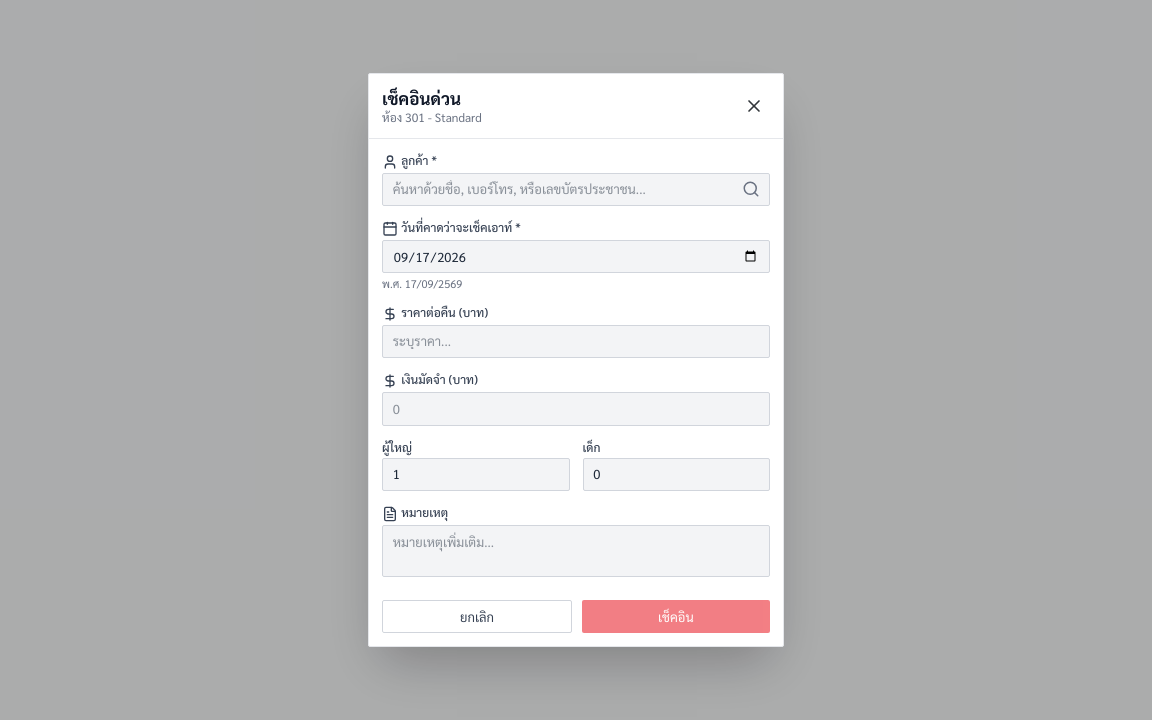
Test case: QuickCheckInModal Component › Customer Search (Debounced) › selects customer when clicking on dropdown item
Type "John" into the field with placeholder "ค้นหาด้วยชื่อ, เบอร์โทร, หรือเลขบัตรประชาชน..." at (576, 189), box x1=382 y1=173 x2=770 y2=206
Wait 300 ms
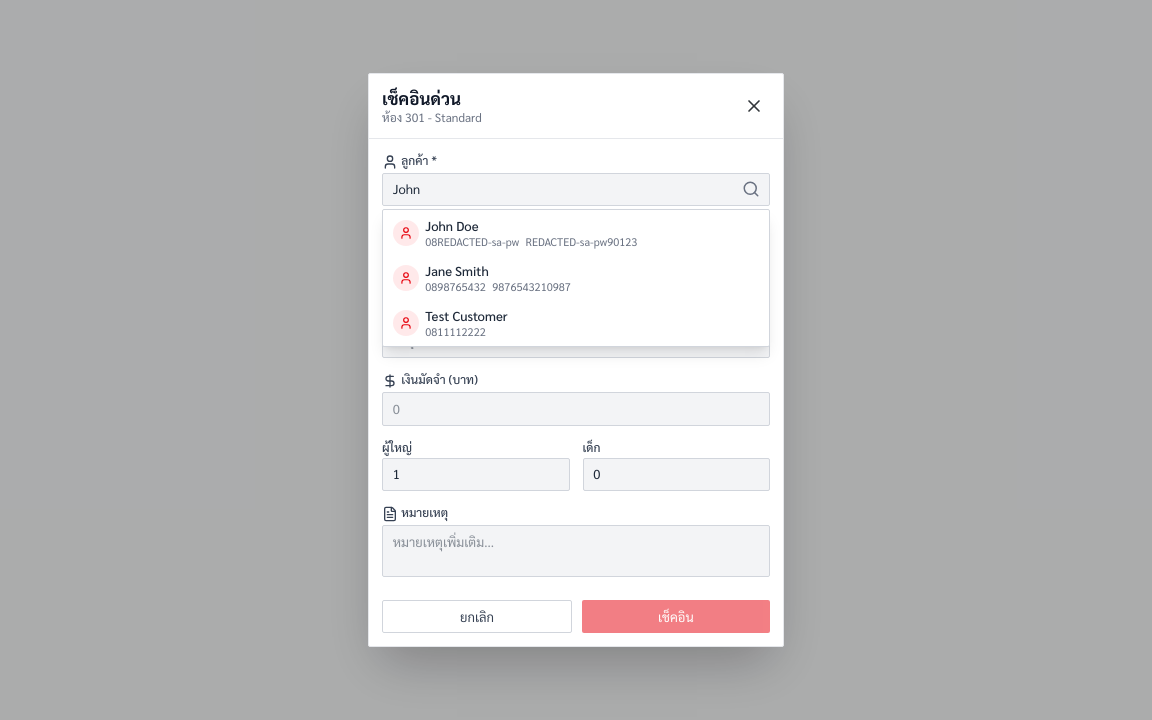
Check: the text "John Doe" is shown
Click the text "John Doe" at (452, 225), box x1=425 y1=217 x2=479 y2=234
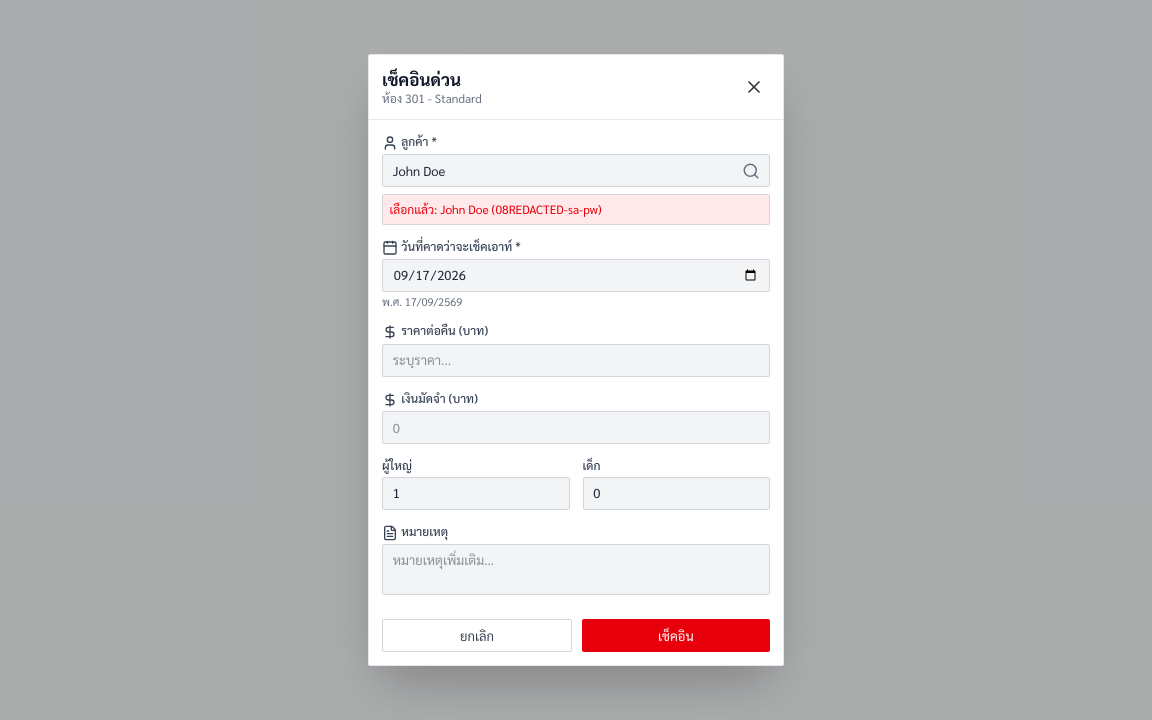
Check: the text "เลือกแล้ว: John Doe (08REDACTED-sa-pw)" is shown, box x1=382 y1=194 x2=770 y2=225
